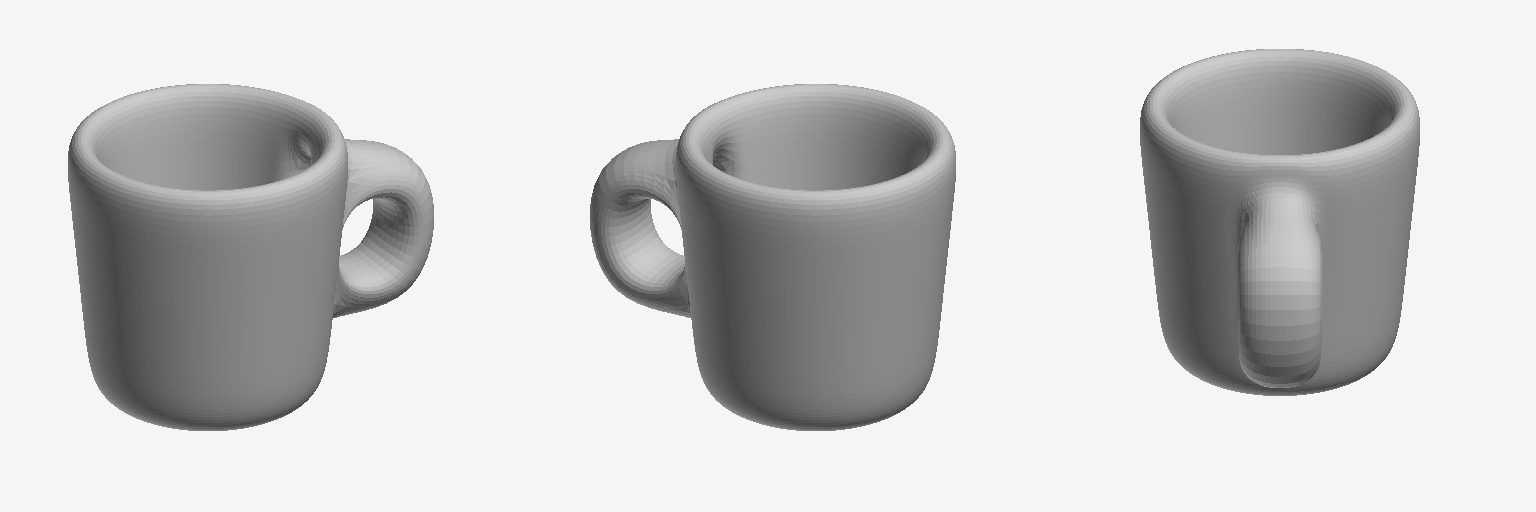
Rendered from colored-cup.obj.
3 views of the same model, side by side, from view 1: azimuth 30°, elevation 25°; view 2: azimuth 150°, elevation 25°; view 3: azimuth 270°, elevation 25° (orthographic).
Parts seen in each view (by area): view 1: Circle.001; view 2: Circle.001; view 3: Circle.001.
Part boxes in pixels (x1,y1,x2,y2): Circle.001: (68,84,433,430); Circle.001: (590,84,955,430); Circle.001: (1140,49,1419,395).
Size of the model in its own units: 4.57 by 3.35 by 3.28.